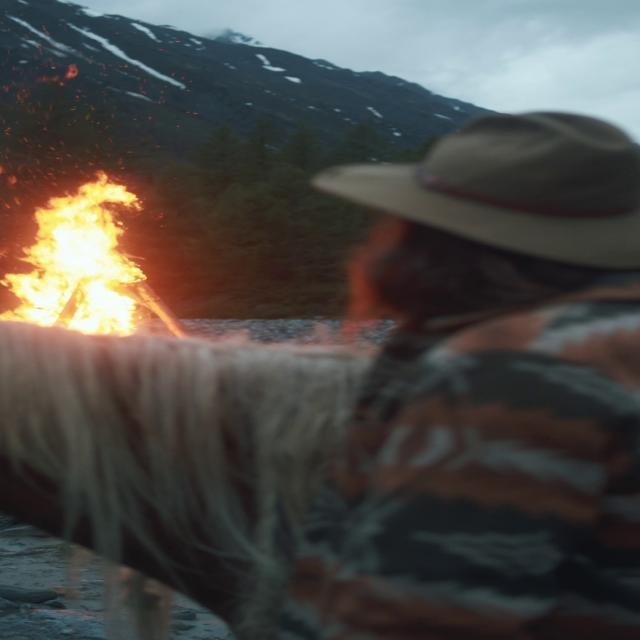Fire: (0, 172, 159, 342)
